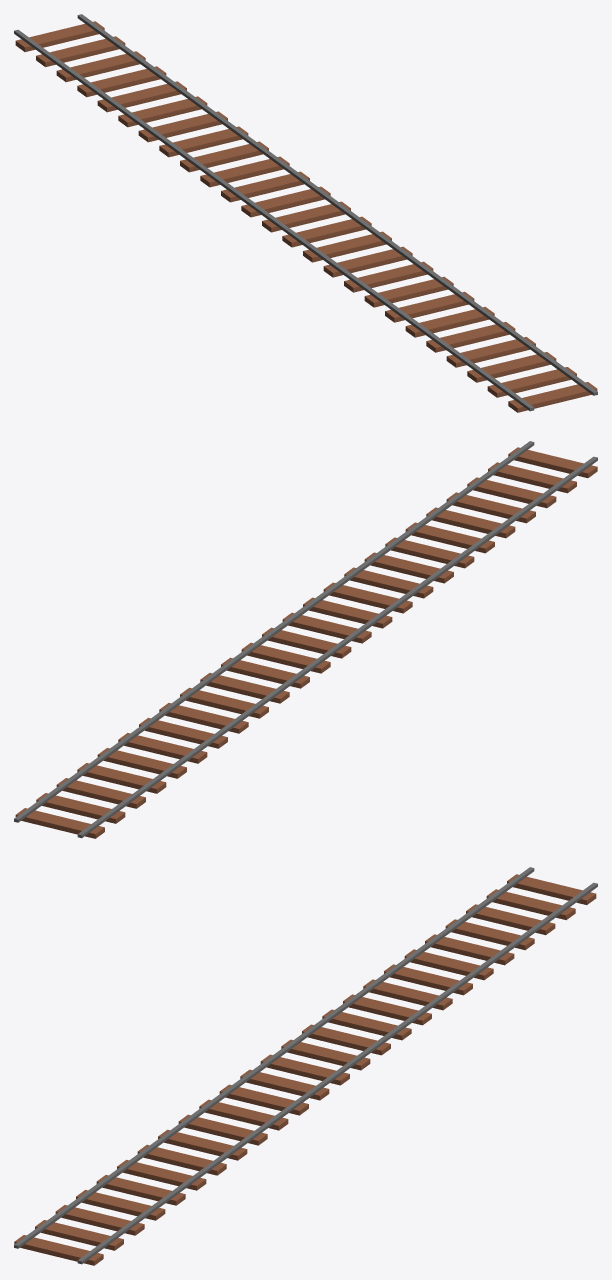
File: railway.fbx
The picture shows the model from 3 angles, top to bottom: view 1: azimuth 30°, elevation 25°; view 2: azimuth 150°, elevation 25°; view 3: azimuth 330°, elevation 25°; orthographic projection.
Parts seen in each view (by area): view 1: railway; view 2: railway; view 3: railway.
Boxes of the visible parts, x1,y1,x2,y2 form: railway: (14,14,597,412); railway: (14,441,597,838); railway: (14,867,597,1265).
Bounding box in the file's own units: 402 × 37.23 × 4500.
